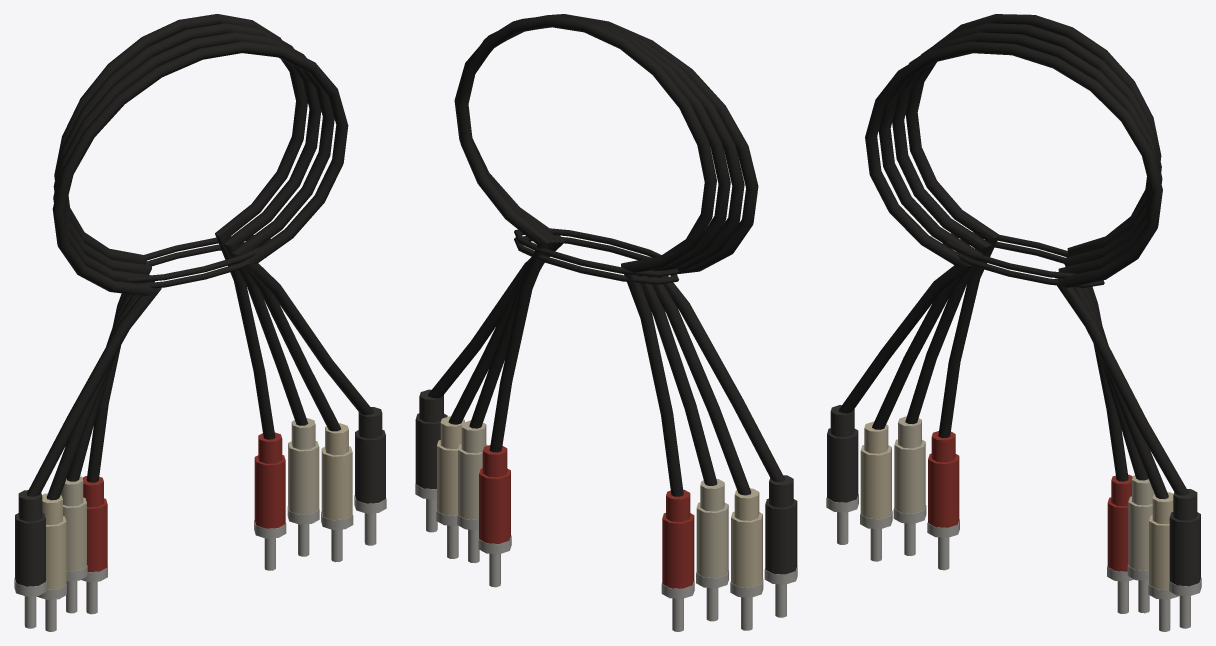
The model's file is cable-coil-small-daa5c2fe94c2.glb.
3 renders of one model, left to right at view 1: azimuth 30°, elevation 25°; view 2: azimuth 150°, elevation 25°; view 3: azimuth 330°, elevation 25°, orthographic. The views are drawn at different scales.
Visible parts, largest first — view 1: rubber, brushed, plastic-dark, plastic-light, enamel-red, enamel-beige; view 2: rubber, enamel-red, brushed, plastic-dark, plastic-light, enamel-beige; view 3: rubber, plastic-dark, brushed, enamel-red, plastic-light, enamel-beige.
Part boxes in pixels (bbox=[...]): rubber: bbox=[26, 14, 373, 500]; brushed: bbox=[14, 495, 386, 631]; plastic-dark: bbox=[15, 407, 385, 586]; plastic-light: bbox=[60, 418, 319, 571]; enamel-red: bbox=[82, 432, 285, 571]; enamel-beige: bbox=[42, 423, 352, 589]; rubber: bbox=[428, 14, 784, 496]; enamel-red: bbox=[479, 445, 694, 588]; brushed: bbox=[415, 483, 797, 631]; plastic-dark: bbox=[415, 389, 797, 574]; plastic-light: bbox=[458, 420, 728, 577]; enamel-beige: bbox=[437, 416, 762, 587]; rubber: bbox=[839, 14, 1188, 499]; plastic-dark: bbox=[827, 405, 1200, 586]; brushed: bbox=[826, 494, 1201, 631]; enamel-red: bbox=[928, 431, 1132, 571]; plastic-light: bbox=[894, 416, 1154, 570]; enamel-beige: bbox=[860, 421, 1173, 589].
Bounding box in the file's own units: 0.1586 × 0.2343 × 0.0268.
